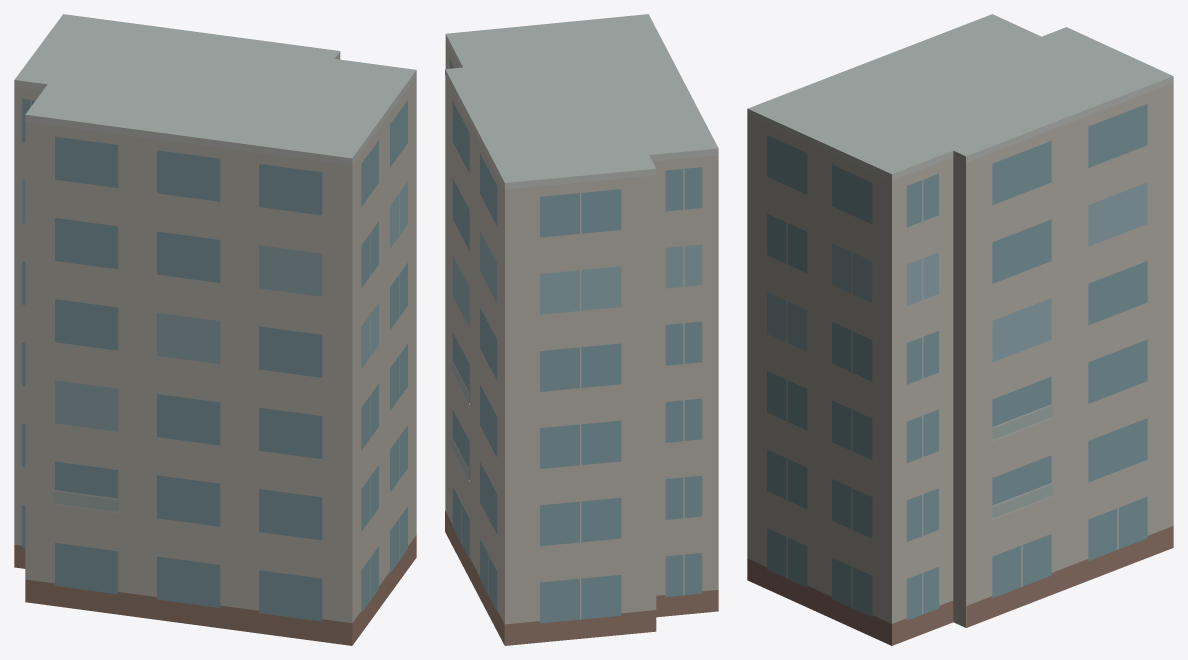
Rendered from survey-upis-32694004.glb.
The picture shows the model from 3 angles, left to right: view 1: azimuth 30°, elevation 25°; view 2: azimuth 150°, elevation 25°; view 3: azimuth 270°, elevation 25°; orthographic projection. The views are drawn at different scales.
Visible parts, largest first — view 1: survey-upis-32694004.tmp; view 2: survey-upis-32694004.tmp; view 3: survey-upis-32694004.tmp.
Boxes of the visible parts, bbox=[...] form: survey-upis-32694004.tmp: bbox=[14, 14, 416, 645]; survey-upis-32694004.tmp: bbox=[445, 14, 718, 645]; survey-upis-32694004.tmp: bbox=[747, 14, 1173, 645].
Size of the model in its own units: 12.54 by 17.2 by 14.09.
